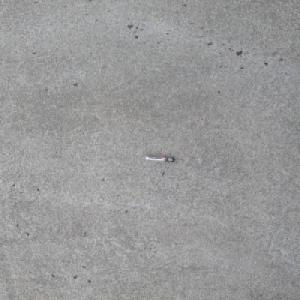Battery: (144, 156, 175, 162)
